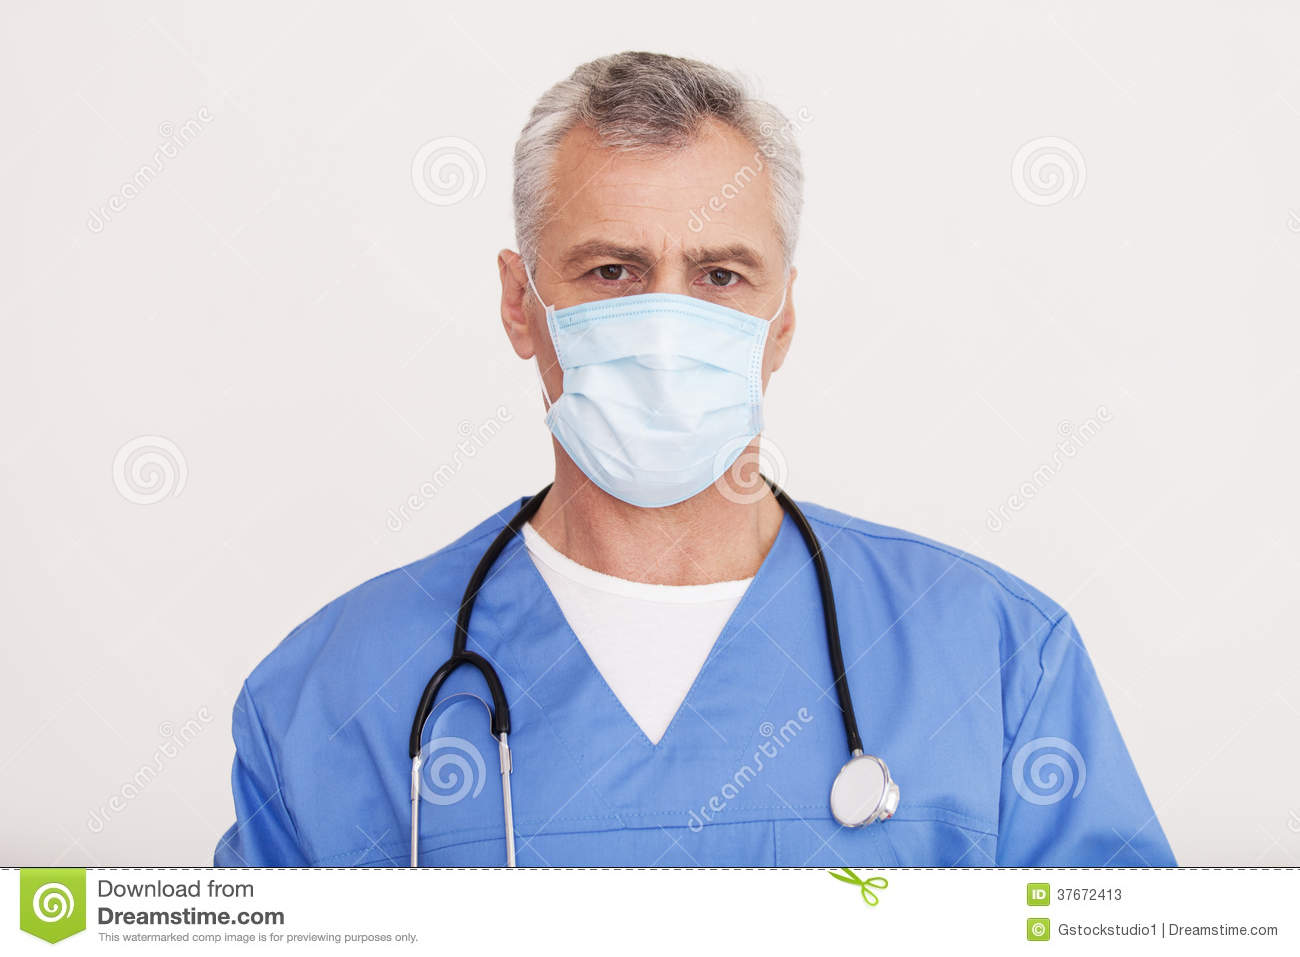mask: (535, 295, 773, 511)
